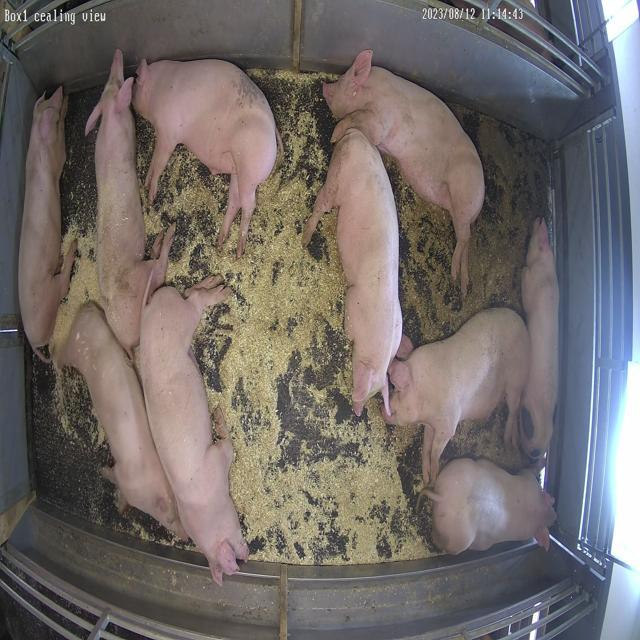Dirt: (389, 105, 550, 346), (442, 407, 528, 472)
Pig: (324, 49, 486, 294), (135, 276, 249, 584), (60, 304, 186, 538), (133, 59, 280, 256), (303, 128, 403, 416), (85, 49, 173, 352), (387, 308, 530, 484), (18, 87, 74, 358), (423, 460, 557, 556), (522, 218, 560, 460)
